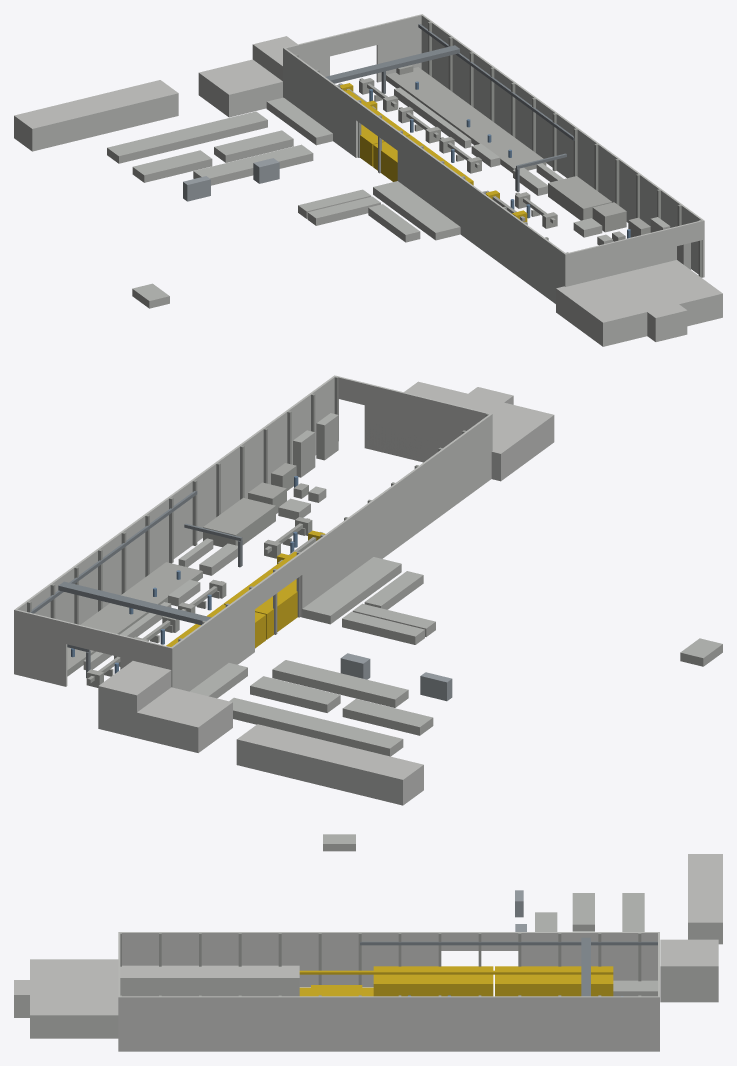
Rendered from comar_ALT3.glb.
3 renders of one model, top to bottom at view 1: azimuth 30°, elevation 25°; view 2: azimuth 150°, elevation 25°; view 3: azimuth 270°, elevation 25°, orthographic. The views are drawn at different scales.
Parts seen in each view (by area): view 1: ALT3_N1, ALT3_ADM, ALT3_A11, ALT3_DBU, ALT3_A7, ALT3_P3, ALT3_A10, ALT3_P4, ALT3_PGR, ALT3_A2, ALT3_P1, ALT3_PTC1 (+14 smaller); view 2: ALT3_N1, ALT3_A11, ALT3_ADM, ALT3_DBU, ALT3_DPI, ALT3_A7, ALT3_A10, ALT3_A2, ALT3_PGR, ALT3_P3, ALT3_P1, ALT3_PTC1 (+14 smaller); view 3: ALT3_N1, ALT3_ADM, ALT3_PIN, ALT3_DPI, ALT3_GRA, ALT3_A11, ALT3_N2a, ALT3_PGR, ALT3_N2b, ALT3_MRR, ALT3_PAN, ALT3_A7 (+7 smaller).
Boxes of the visible parts, left/top/right/bottom form: ALT3_N1: left=283, top=14, right=704, bottom=303; ALT3_ADM: left=556, top=260, right=722, bottom=346; ALT3_A11: left=14, top=80, right=178, bottom=151; ALT3_DBU: left=198, top=59, right=282, bottom=117; ALT3_A7: left=107, top=111, right=267, bottom=163; ALT3_P3: left=447, top=112, right=546, bottom=173; ALT3_A10: left=373, top=181, right=460, bottom=240; ALT3_P4: left=386, top=67, right=479, bottom=121; ALT3_PGR: left=325, top=24, right=574, bottom=140; ALT3_A2: left=193, top=144, right=313, bottom=185; ALT3_P1: left=548, top=176, right=611, bottom=220; ALT3_PTC1: left=132, top=150, right=212, bottom=182; ALT3_N1: left=14, top=375, right=492, bottom=691; ALT3_A11: left=236, top=724, right=423, bottom=805; ALT3_ADM: left=364, top=381, right=554, bottom=481; ALT3_DBU: left=137, top=687, right=232, bottom=752; ALT3_DPI: left=98, top=661, right=171, bottom=737; ALT3_A7: left=229, top=697, right=403, bottom=756; ALT3_A10: left=302, top=557, right=401, bottom=624; ALT3_A2: left=272, top=660, right=408, bottom=707; ALT3_PGR: left=29, top=490, right=211, bottom=624; ALT3_P3: left=91, top=562, right=202, bottom=628; ALT3_P1: left=203, top=497, right=275, bottom=547; ALT3_PTC1: left=342, top=699, right=433, bottom=735; ALT3_N1: left=118, top=932, right=659, bottom=1051; ALT3_ADM: left=30, top=959, right=118, bottom=1038; ALT3_PIN: left=373, top=966, right=493, bottom=996; ALT3_DPI: left=660, top=950, right=718, bottom=1002; ALT3_GRA: left=495, top=966, right=613, bottom=996; ALT3_A11: left=688, top=854, right=722, bottom=944; ALT3_N2a: left=120, top=965, right=198, bottom=996; ALT3_PGR: left=360, top=937, right=657, bottom=996; ALT3_N2b: left=240, top=965, right=299, bottom=996; ALT3_MRR: left=299, top=970, right=613, bottom=974; ALT3_PAN: left=198, top=965, right=239, bottom=996; ALT3_A7: left=622, top=893, right=644, bottom=931.
Bounding box in the file's own units: 62.2 × 7.5 × 88.74.
